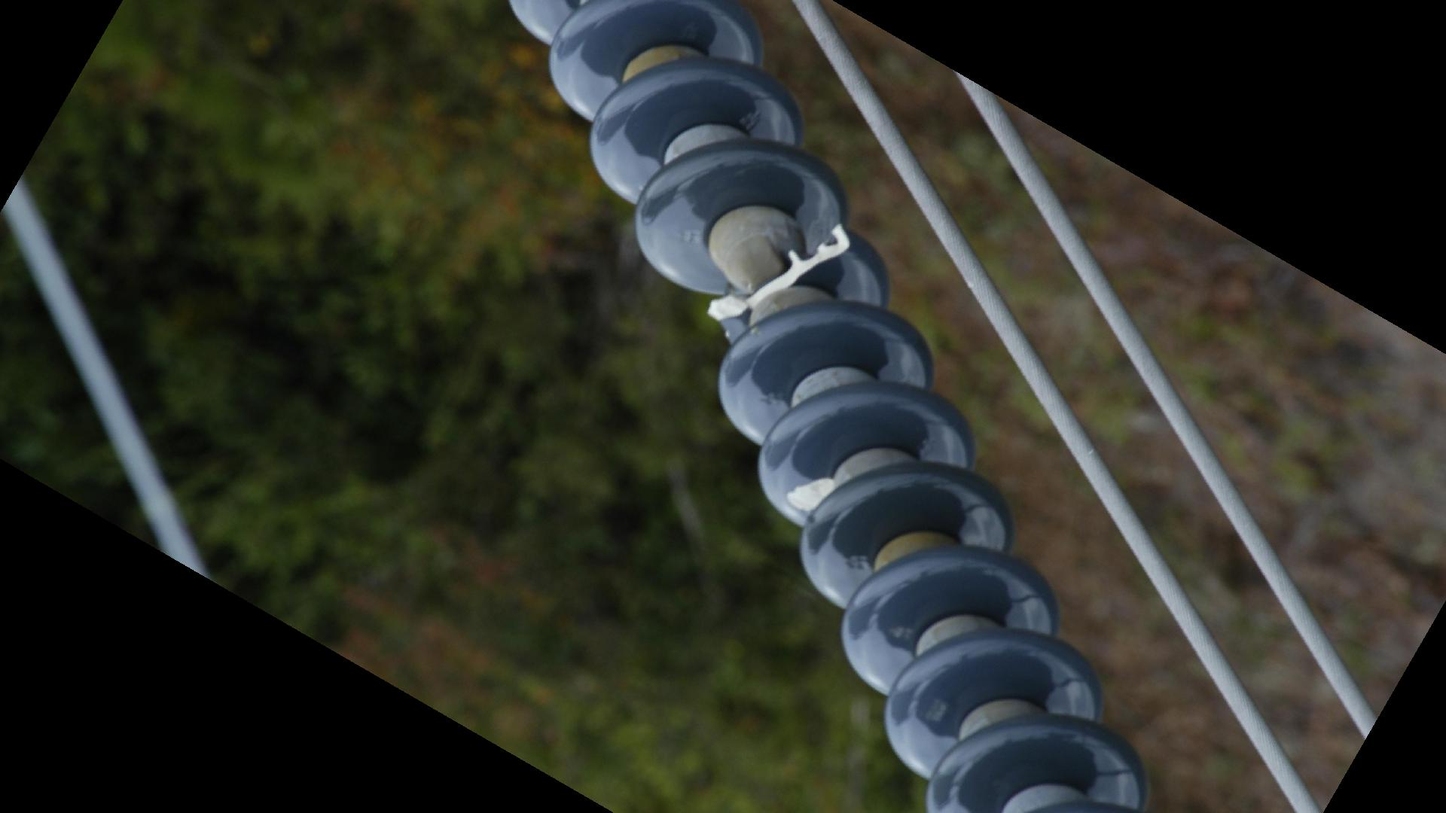insulator: (501, 1, 1169, 813)
insulator_breakage: (700, 217, 859, 336)
